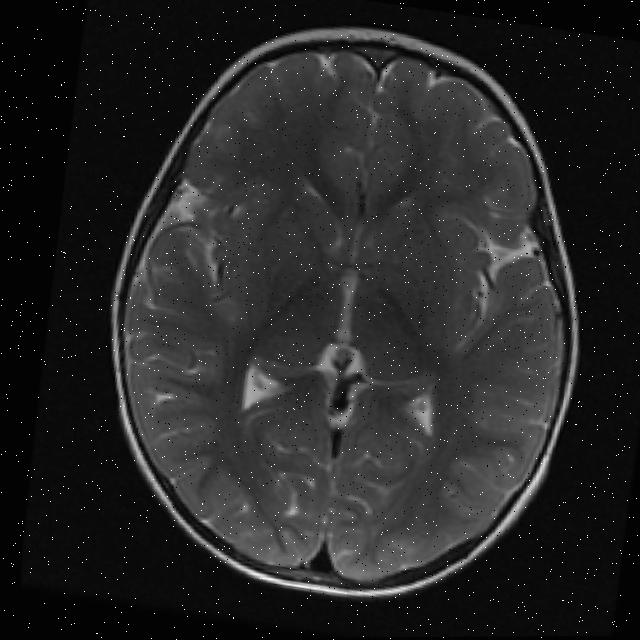NoTumor: (55, 0, 638, 637)
